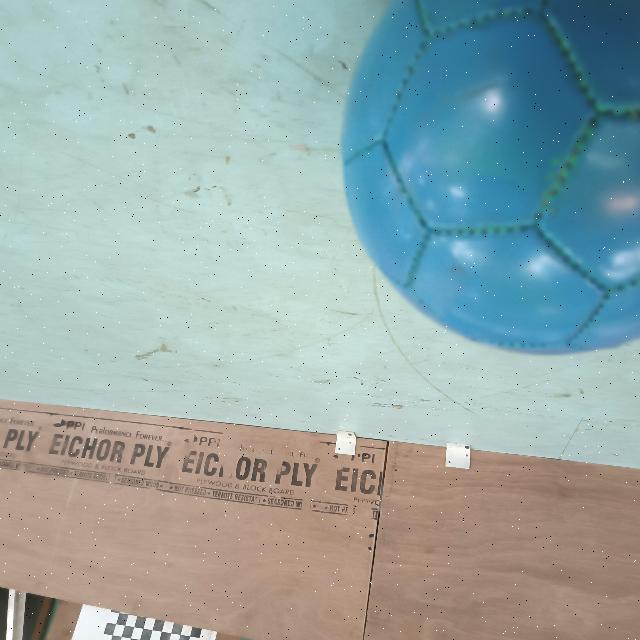B: (330, 0, 640, 360)
